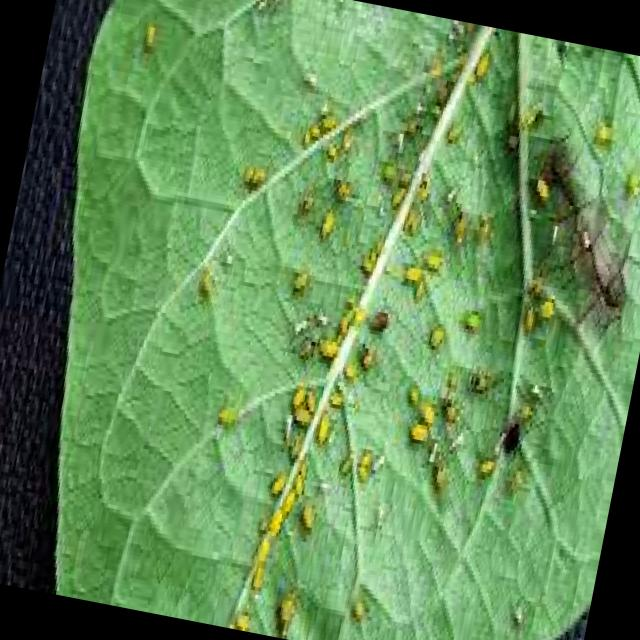aphid: (208, 382, 248, 439), (259, 450, 296, 508), (190, 250, 224, 310), (466, 29, 500, 89), (132, 6, 166, 59), (341, 582, 377, 632), (418, 306, 452, 356), (281, 364, 315, 414), (285, 253, 317, 302), (292, 487, 324, 536), (248, 522, 280, 570), (311, 196, 341, 245), (400, 406, 434, 449), (311, 398, 337, 450), (458, 294, 490, 336), (396, 247, 428, 289), (418, 239, 451, 278), (312, 324, 342, 366), (384, 170, 414, 212), (338, 344, 364, 390), (399, 368, 427, 409), (374, 150, 402, 191), (313, 95, 341, 136), (354, 432, 382, 470), (299, 108, 330, 142), (350, 456, 376, 492), (354, 242, 378, 280), (294, 114, 316, 154), (230, 599, 256, 629)
